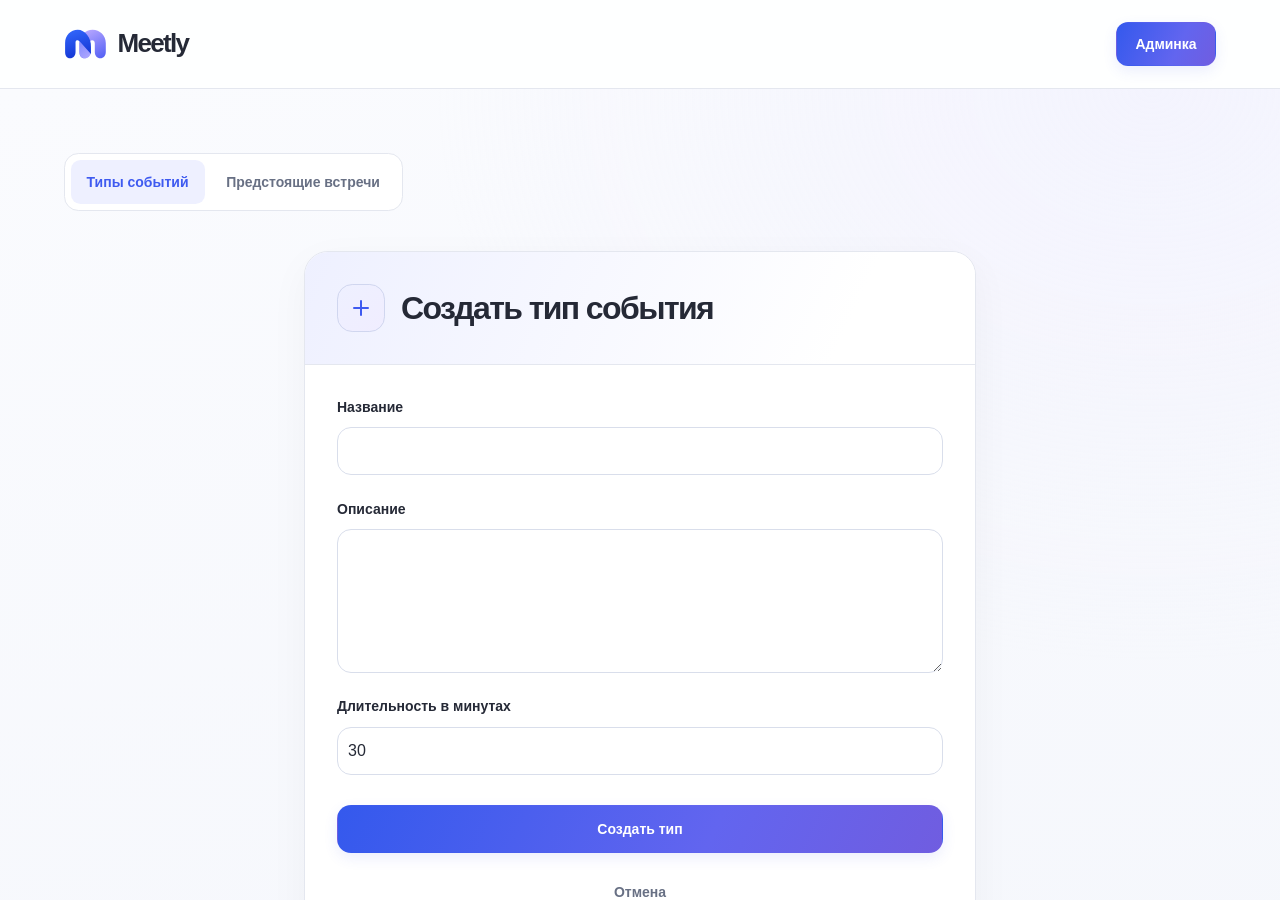
pending create ignores a second form submit
The width and height of the screenshot is (1280, 900).
In the field labelled "Название": (640,451) [337,427,943,475], type "Разговор"
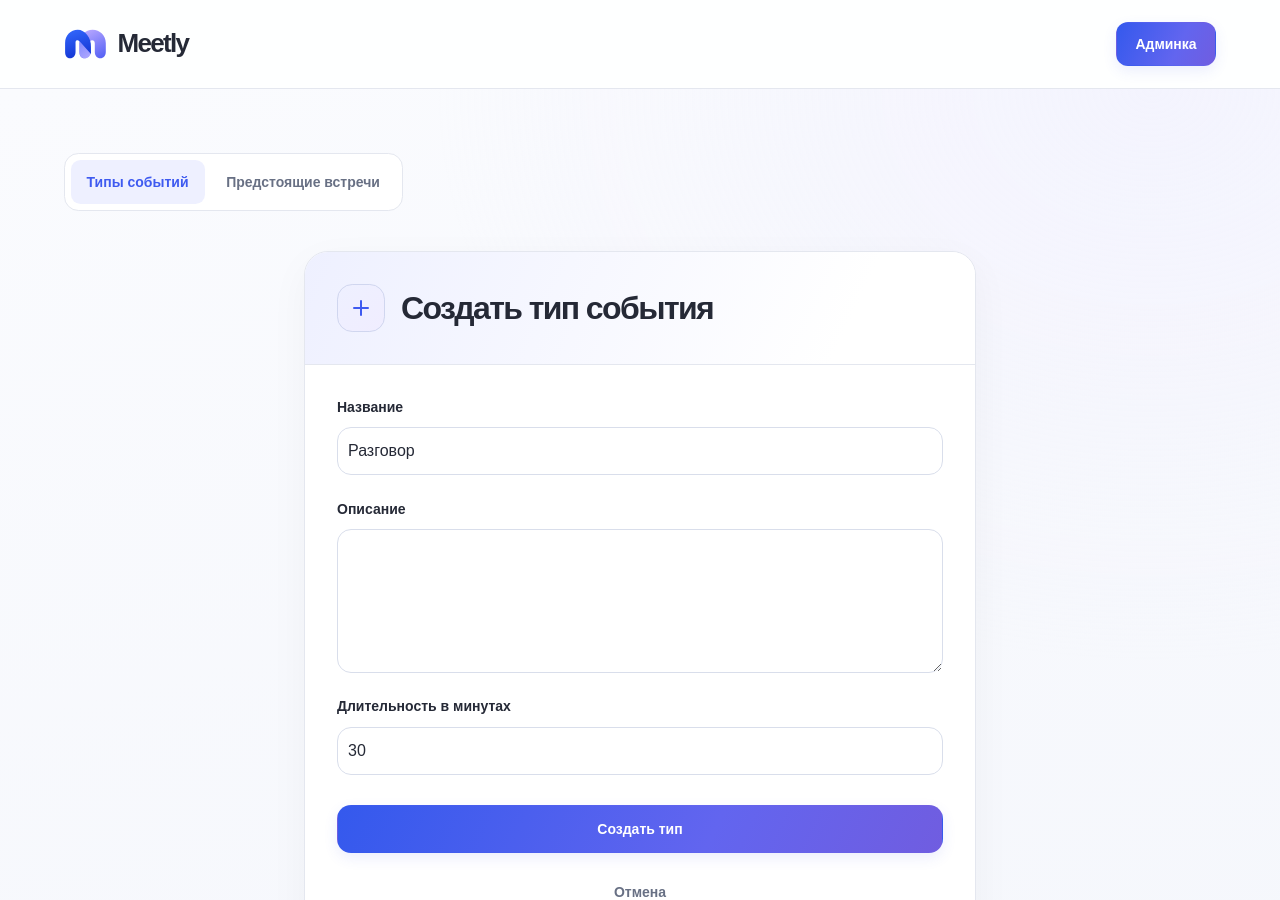
In the text box labelled "Описание": (640,601) [337,529,943,673], type "Описание"
(page scrolled)
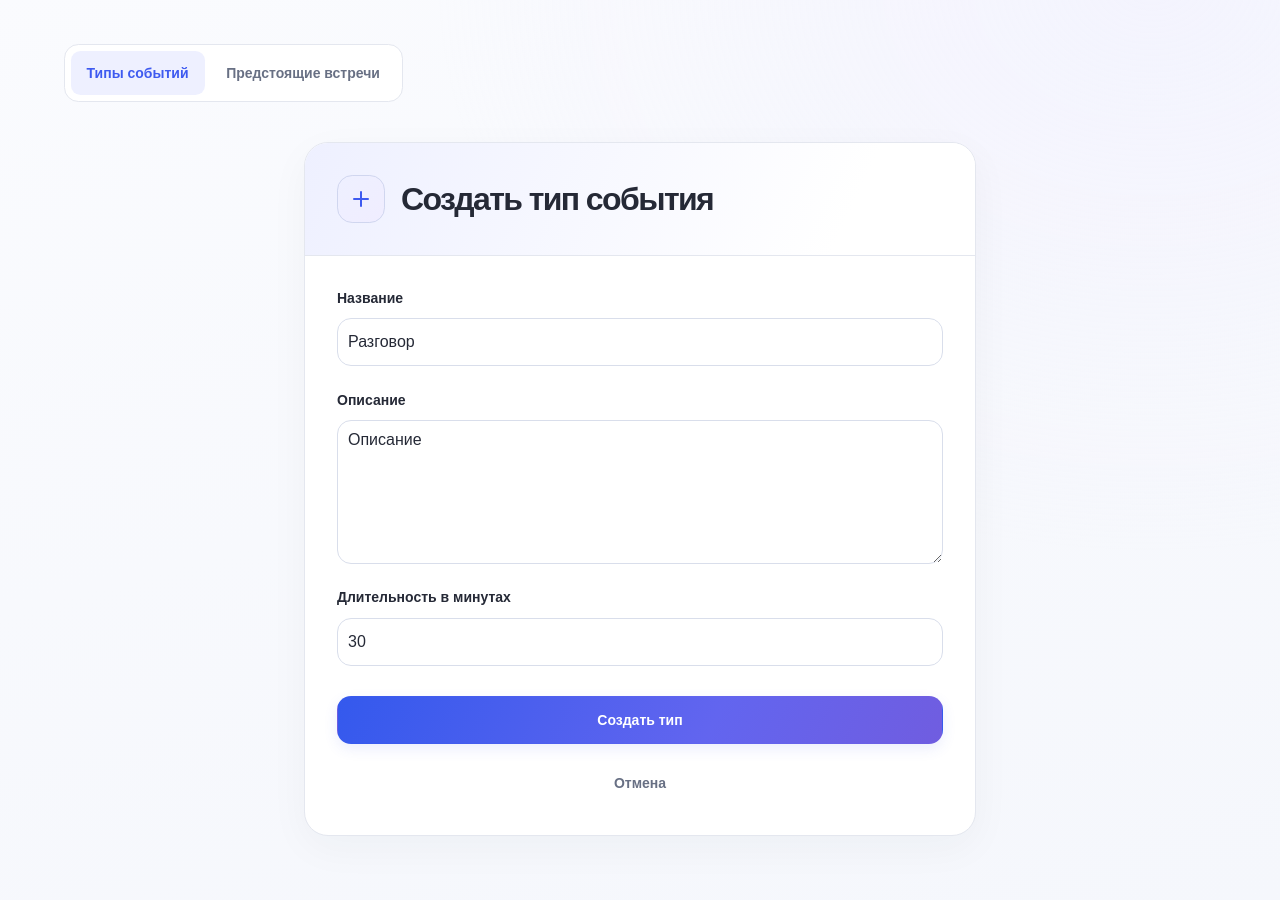
Submit the form "Создать тип", box [337,288,943,803]
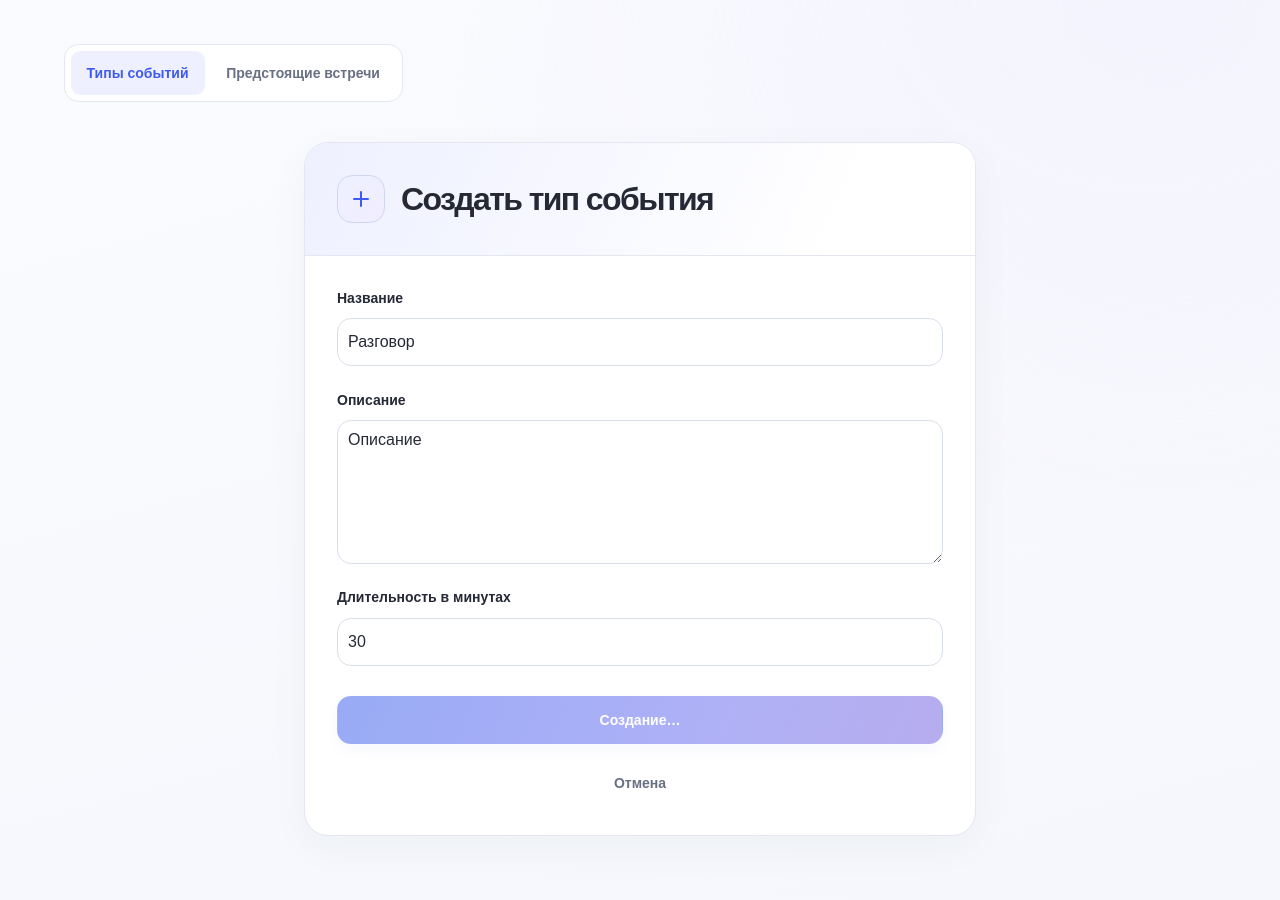
Submit the form named "Создать тип", box [337,288,943,803]
(page scrolled)
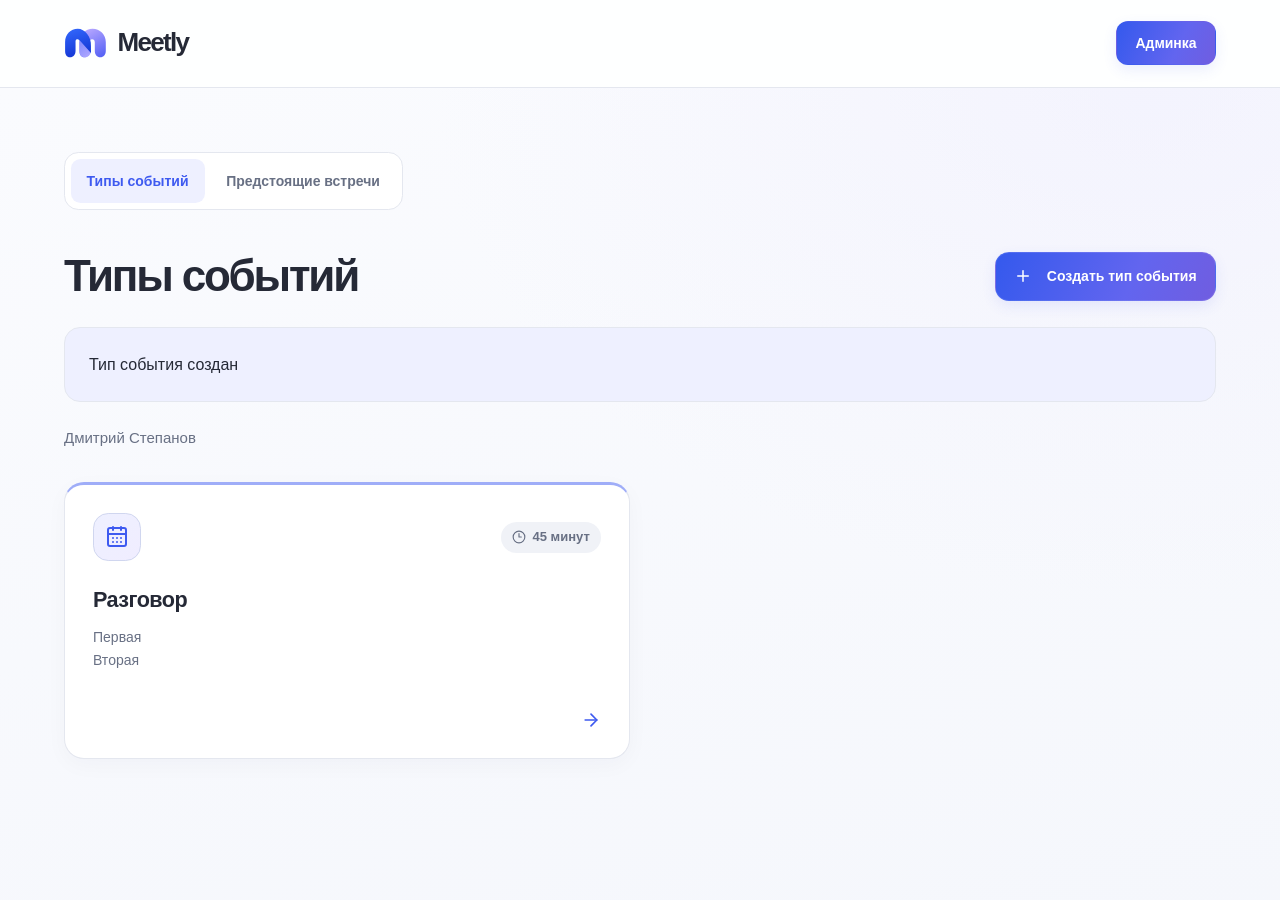
Now the text "Тип события создан" is shown, box [64,327,1216,402]
